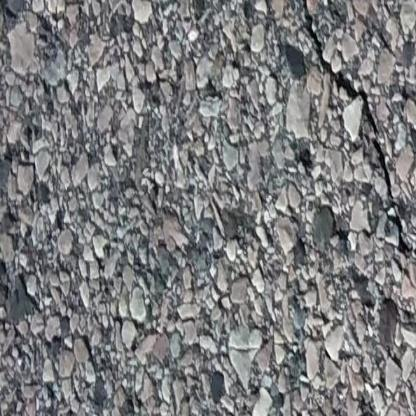Cracks: (297, 0, 416, 299)
